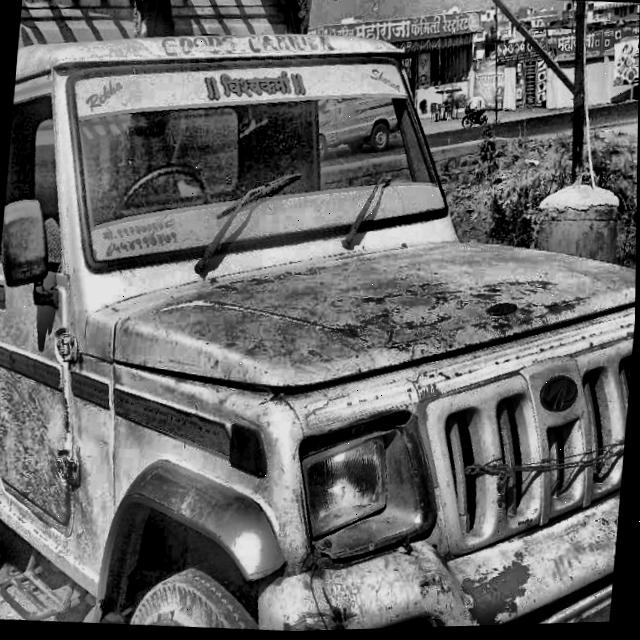light_vehicle: (0, 8, 640, 640)
